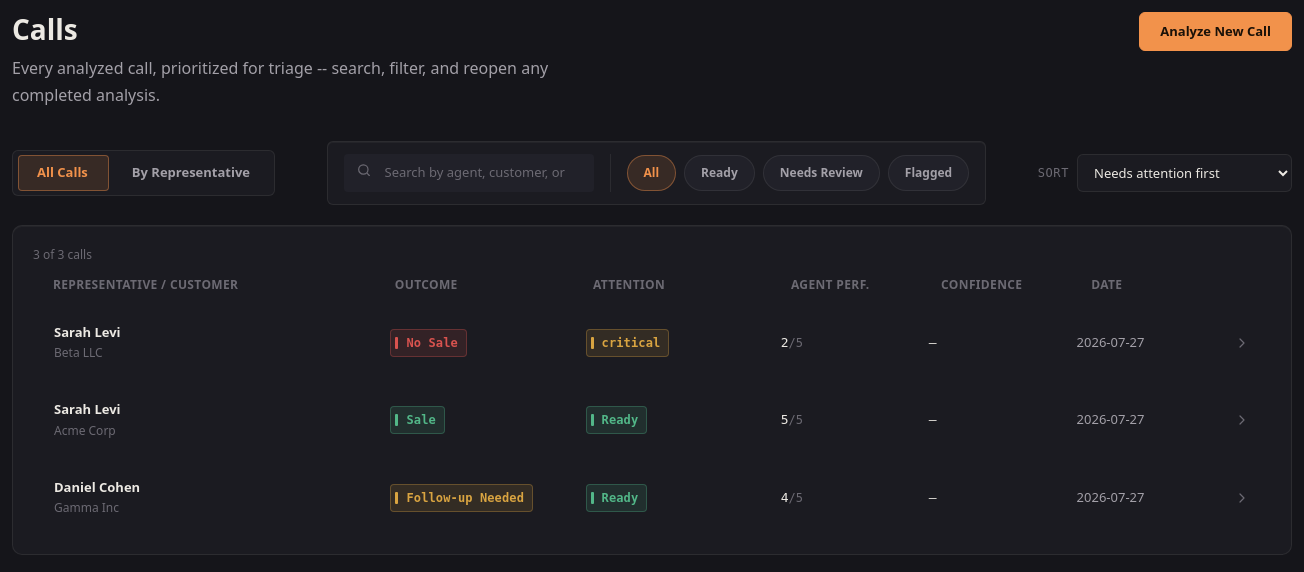
Calls — By Representative view › shows close rate excluding nothing but known outcomes
Check: the text "Acme Corp" is shown, box [54,422,116,439]
Click the tab "By Representative" at (191, 173), box [112,155,270,191]
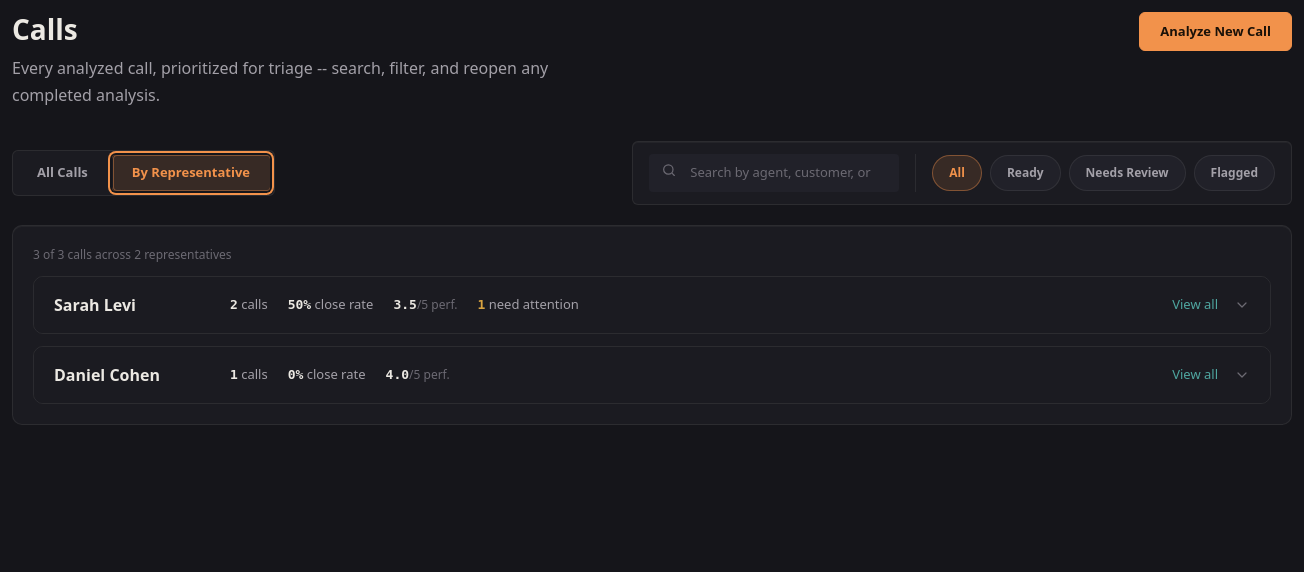
Check: the text "50%" is shown, box [288,297,311,312]
